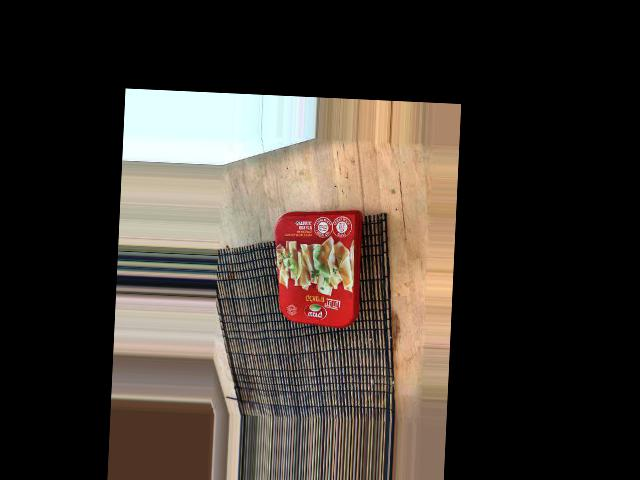cheese: (201, 270, 337, 364)
